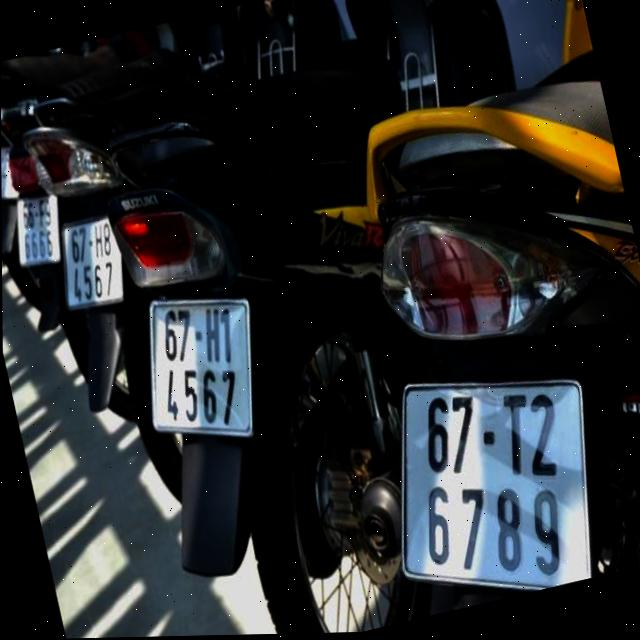motorcycle: (276, 0, 640, 622), (84, 77, 414, 638), (5, 76, 177, 468)
plate: (362, 327, 619, 620), (122, 266, 283, 462), (45, 206, 135, 322), (1, 178, 74, 275)
